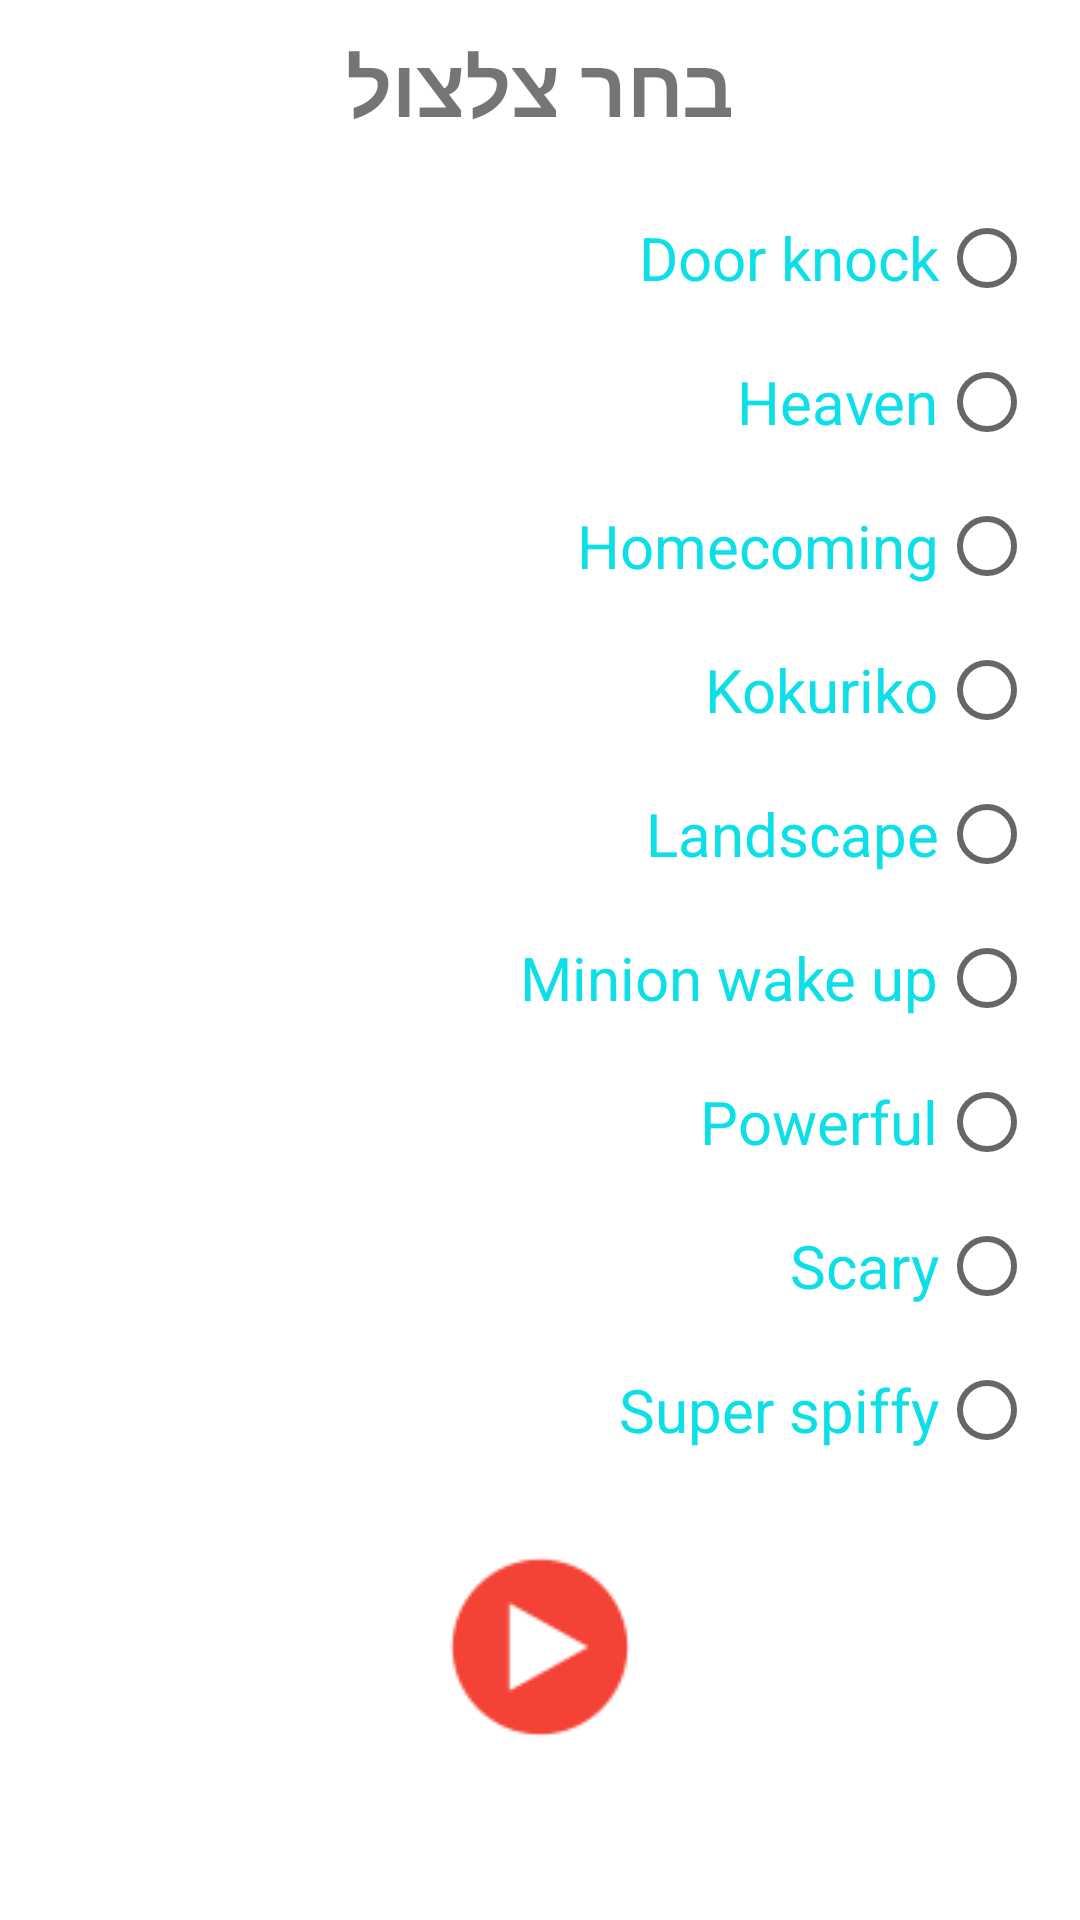

Point at icon controls on the screen. Image size 1080*1920, points as (x=x, y=y).
play audio: (x=540, y=1647)
